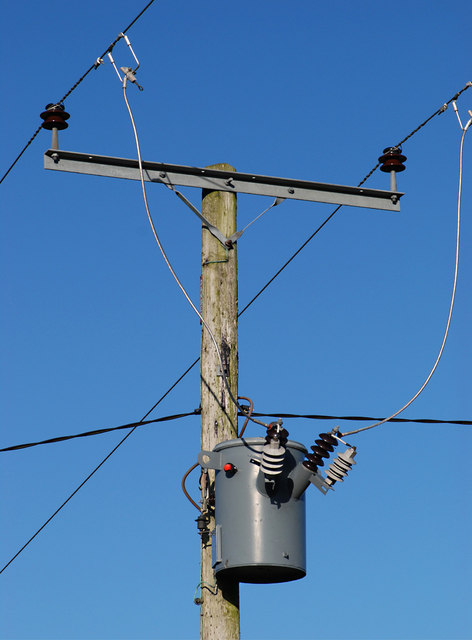utility_pole: (23, 63, 424, 606)
